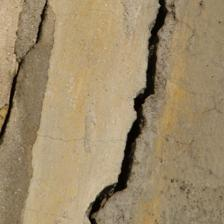Crack: (0, 0, 199, 119), (32, 0, 143, 61)
